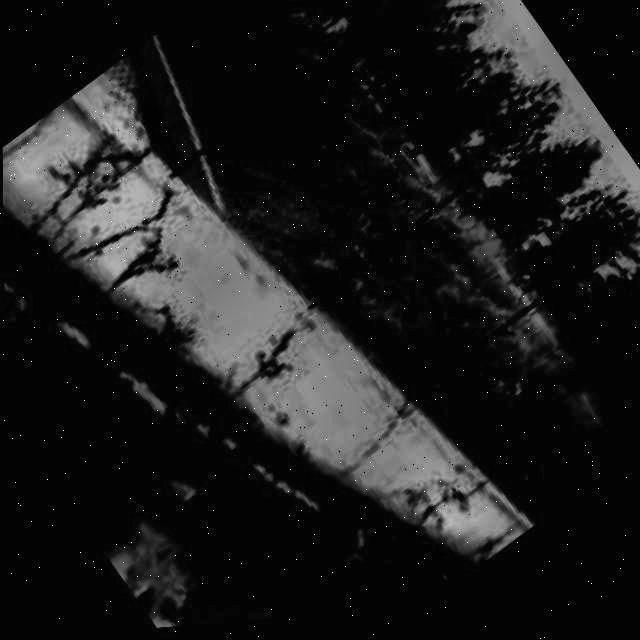Fire: (89, 486, 228, 635)
